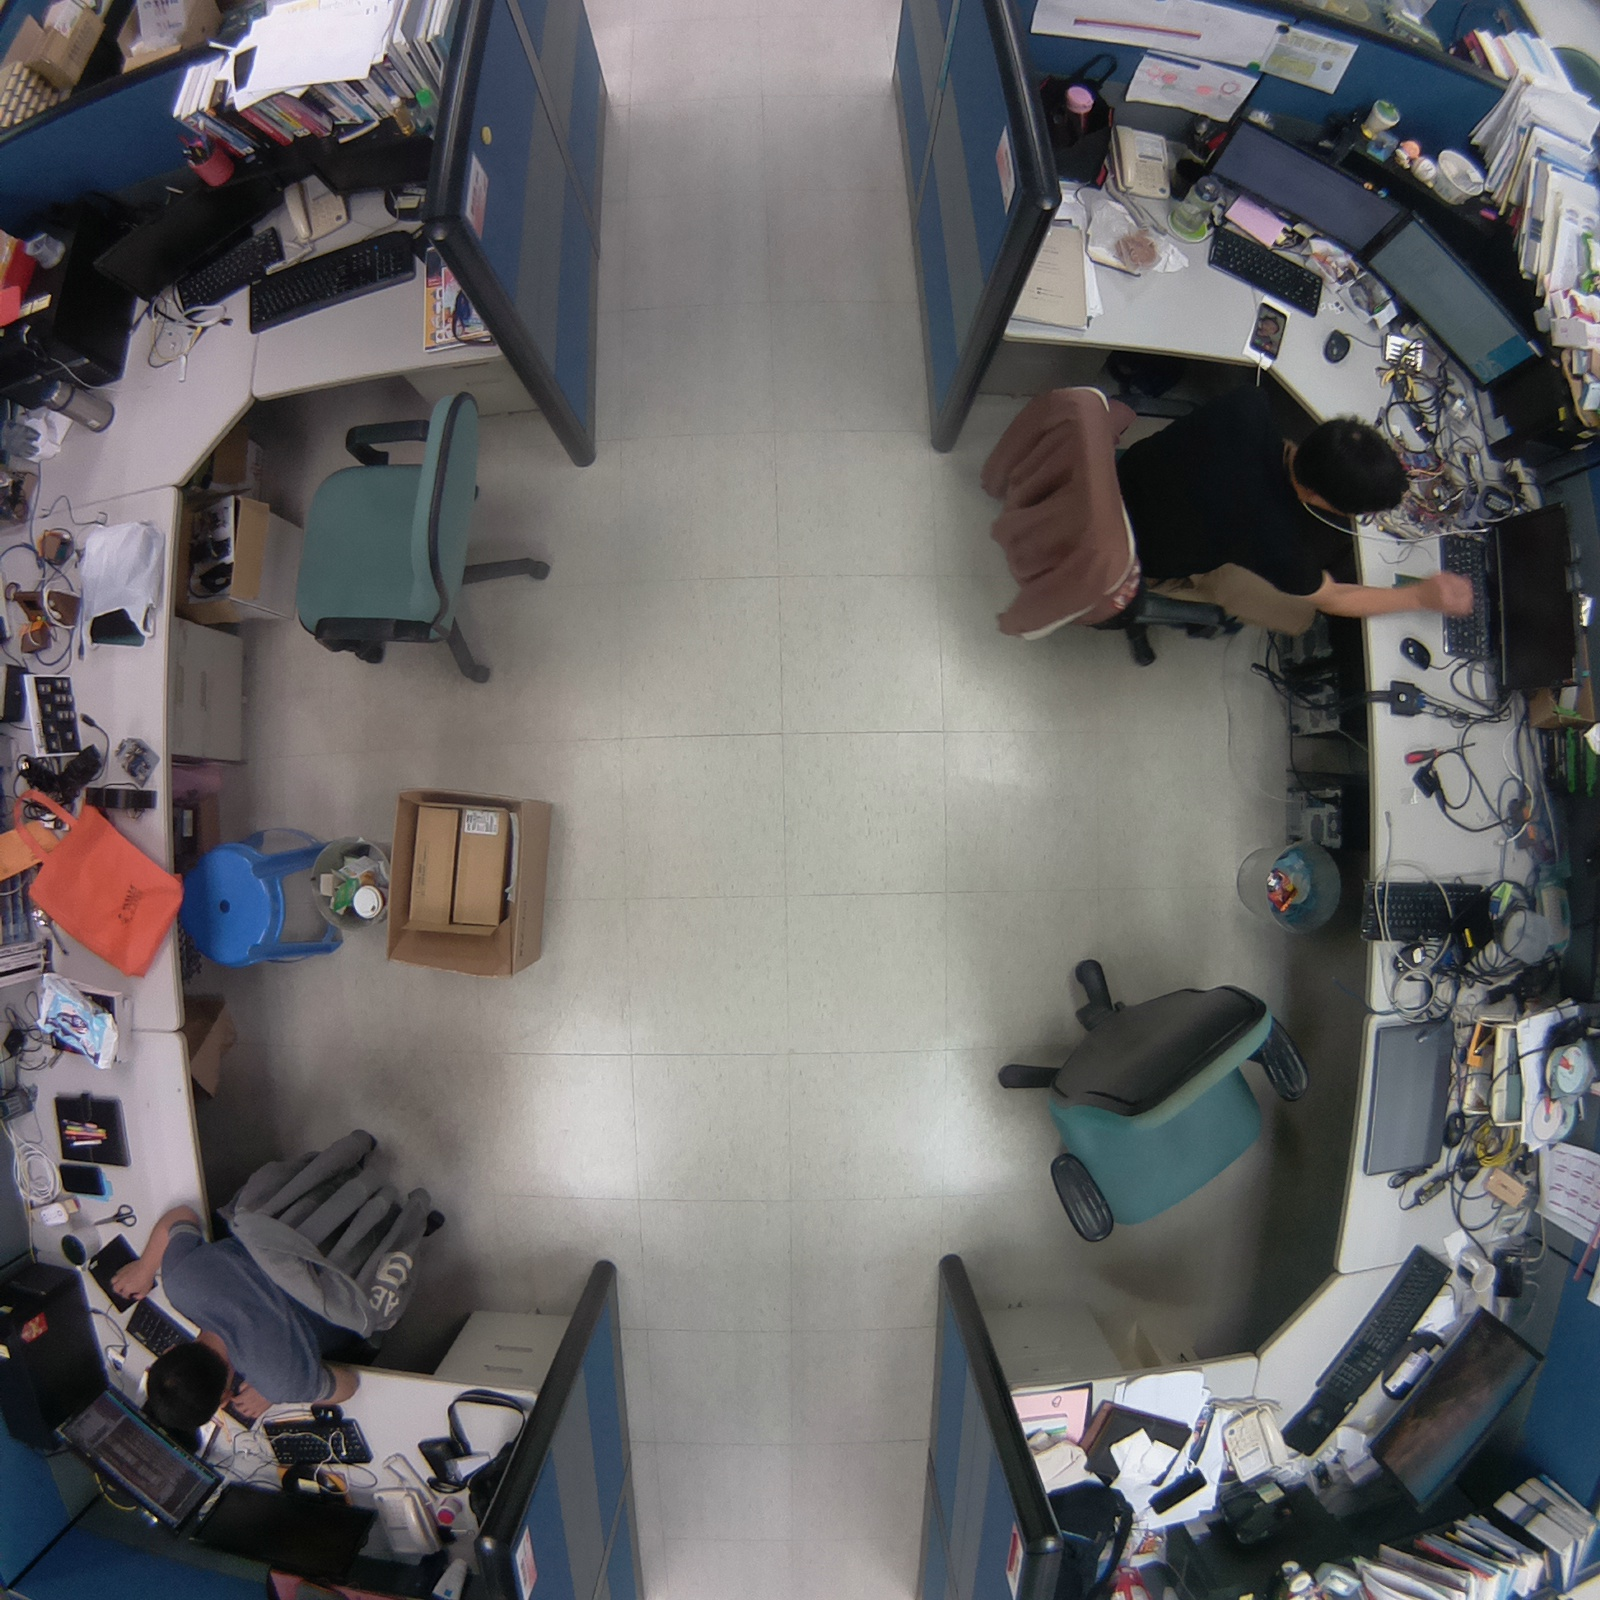chair: (968, 940, 1324, 1263), (278, 373, 560, 696)
head: (1286, 408, 1417, 533), (141, 1335, 239, 1437)
sitting: (958, 373, 1418, 670), (102, 1101, 455, 1437)
